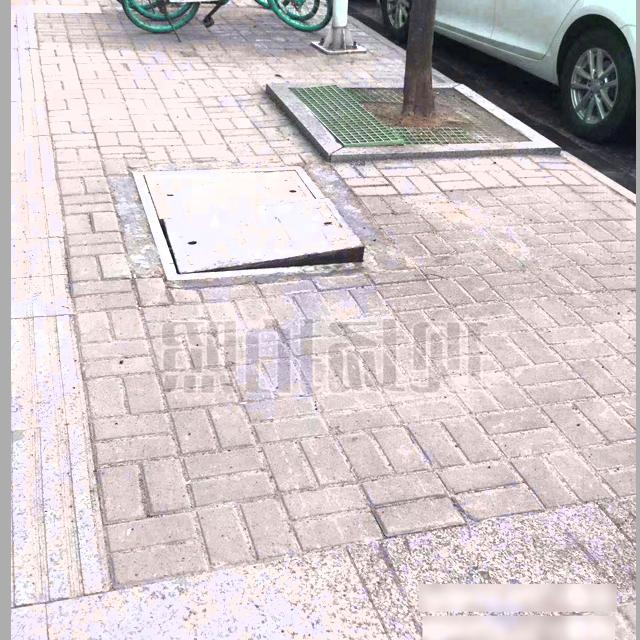uncovered: (156, 182, 363, 271)
